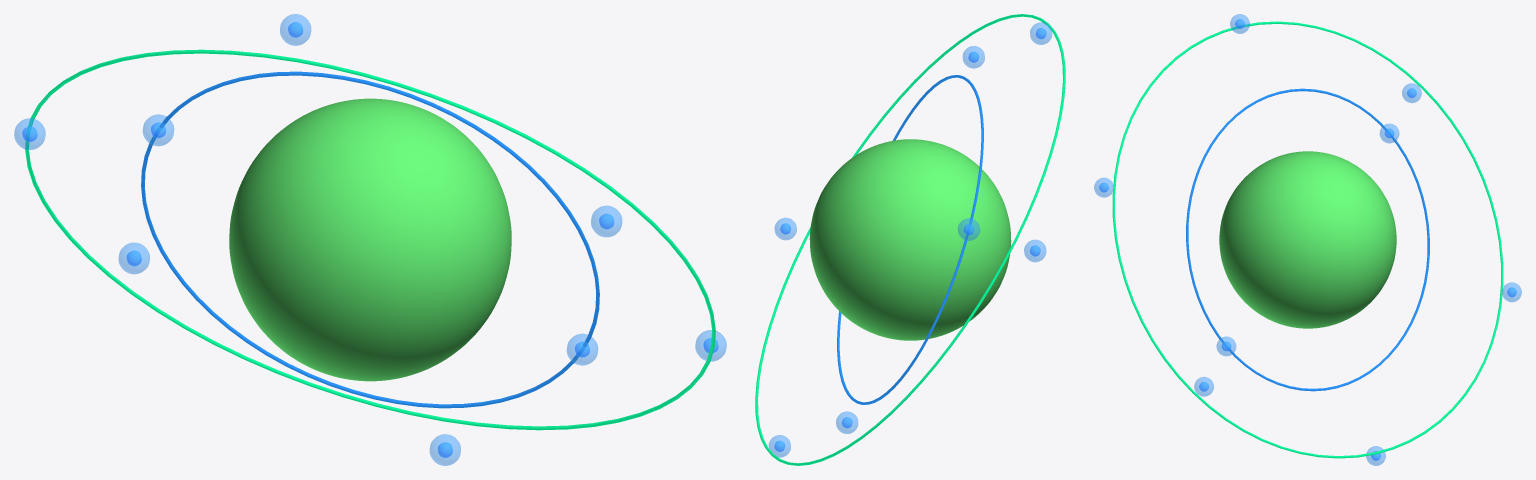
3 views of the same model, side by side, from view 1: azimuth 30°, elevation 25°; view 2: azimuth 150°, elevation 25°; view 3: azimuth 270°, elevation 25° (orthographic). The views are drawn at different scales.
Visible parts, largest first — view 1: O, object 7, object 2, object 12, object 18, object 14, object 10, object 16, object 3, object 5; view 2: O, object 7, object 2, object 16, object 8, object 14, object 12, object 18, object 3, object 10; view 3: O, object 7, object 2.
Boxes of the visible parts, x1,y1,x2,y2 form: O: (229,98,511,381); object 7: (25,49,715,430); object 2: (141,71,599,408); object 12: (118,242,149,274); object 18: (591,205,622,237); object 14: (14,118,45,149); object 10: (429,434,460,465); object 16: (280,14,311,45); object 3: (142,114,174,146); object 5: (566,333,598,365); O: (809,139,1011,340); object 7: (755,14,1065,465); object 2: (837,75,983,404); object 16: (1030,22,1052,44); object 8: (774,217,796,240); object 14: (1024,239,1046,262); object 12: (836,411,858,433); object 18: (962,46,984,68); object 3: (957,218,980,240); object 10: (768,435,790,457); O: (1219,151,1396,328); object 7: (1112,21,1503,458); object 2: (1186,88,1429,391).
Size of the model in its own units: 3.14 by 3.27 by 3.42.
